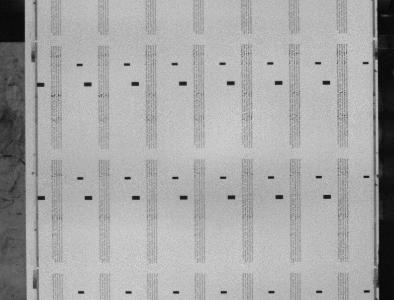qblock: (180, 195, 188, 200), (132, 195, 140, 200), (324, 194, 332, 199), (179, 81, 187, 86), (131, 81, 139, 86), (275, 80, 283, 85), (323, 80, 331, 85), (84, 196, 93, 200), (37, 82, 44, 87), (228, 195, 236, 199), (276, 195, 284, 199), (227, 81, 235, 85), (84, 82, 92, 86), (37, 196, 45, 200)
smallqblock: (171, 62, 178, 66), (221, 290, 228, 294), (78, 290, 85, 294), (125, 176, 131, 180), (172, 176, 179, 179), (76, 63, 83, 66), (220, 176, 227, 179), (268, 176, 275, 179), (77, 177, 84, 180), (219, 62, 226, 65), (267, 62, 274, 65), (315, 61, 322, 64), (125, 291, 132, 294), (268, 290, 275, 293), (173, 291, 180, 294), (316, 290, 323, 293), (124, 63, 130, 66), (316, 175, 322, 178), (363, 61, 369, 64), (364, 175, 370, 178), (364, 290, 371, 292)
